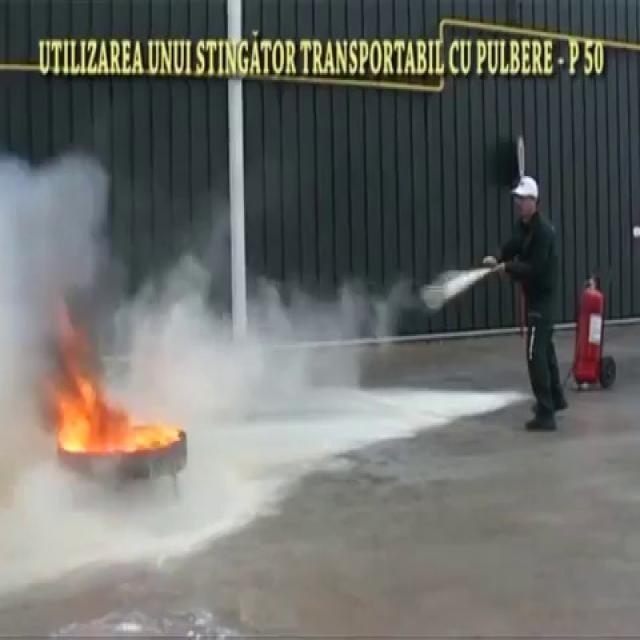Fire: (43, 367, 177, 475)
Smoke: (141, 262, 409, 550)
